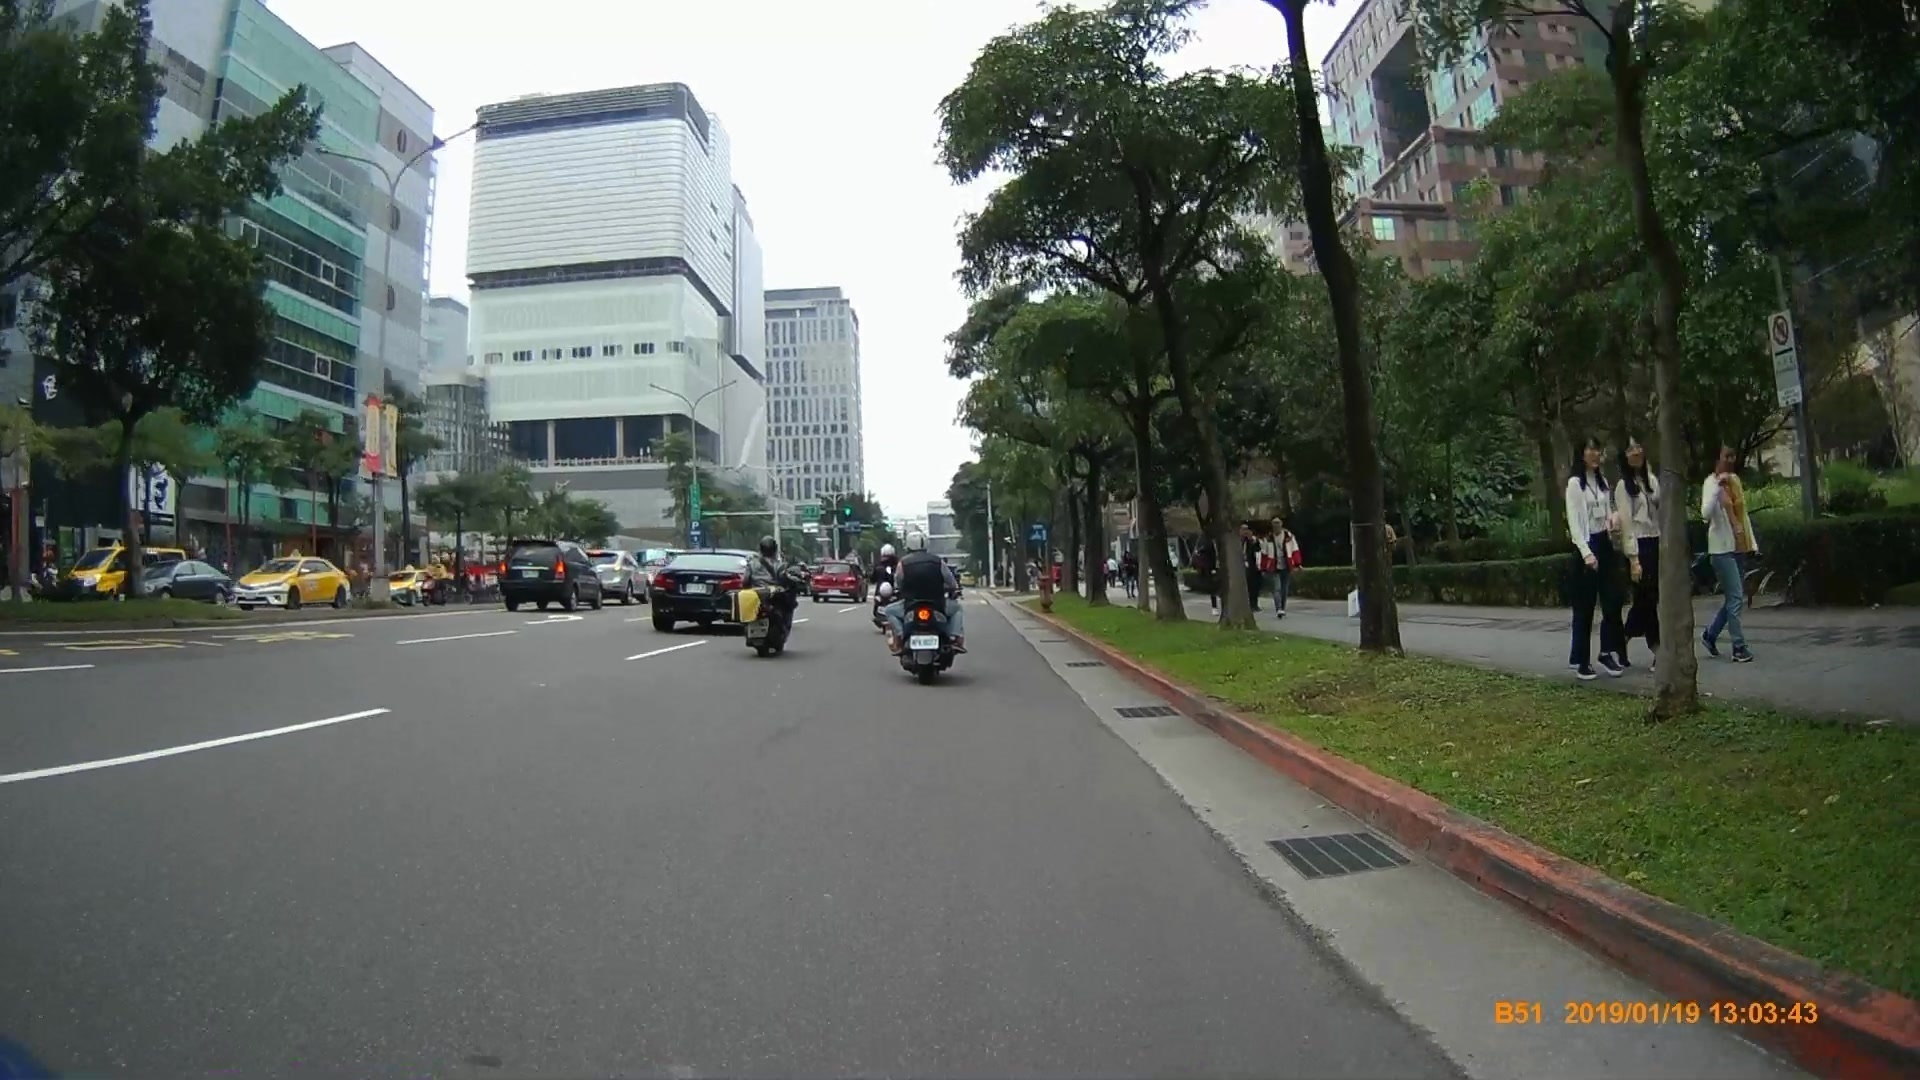License_plate: (910, 631, 941, 650)
